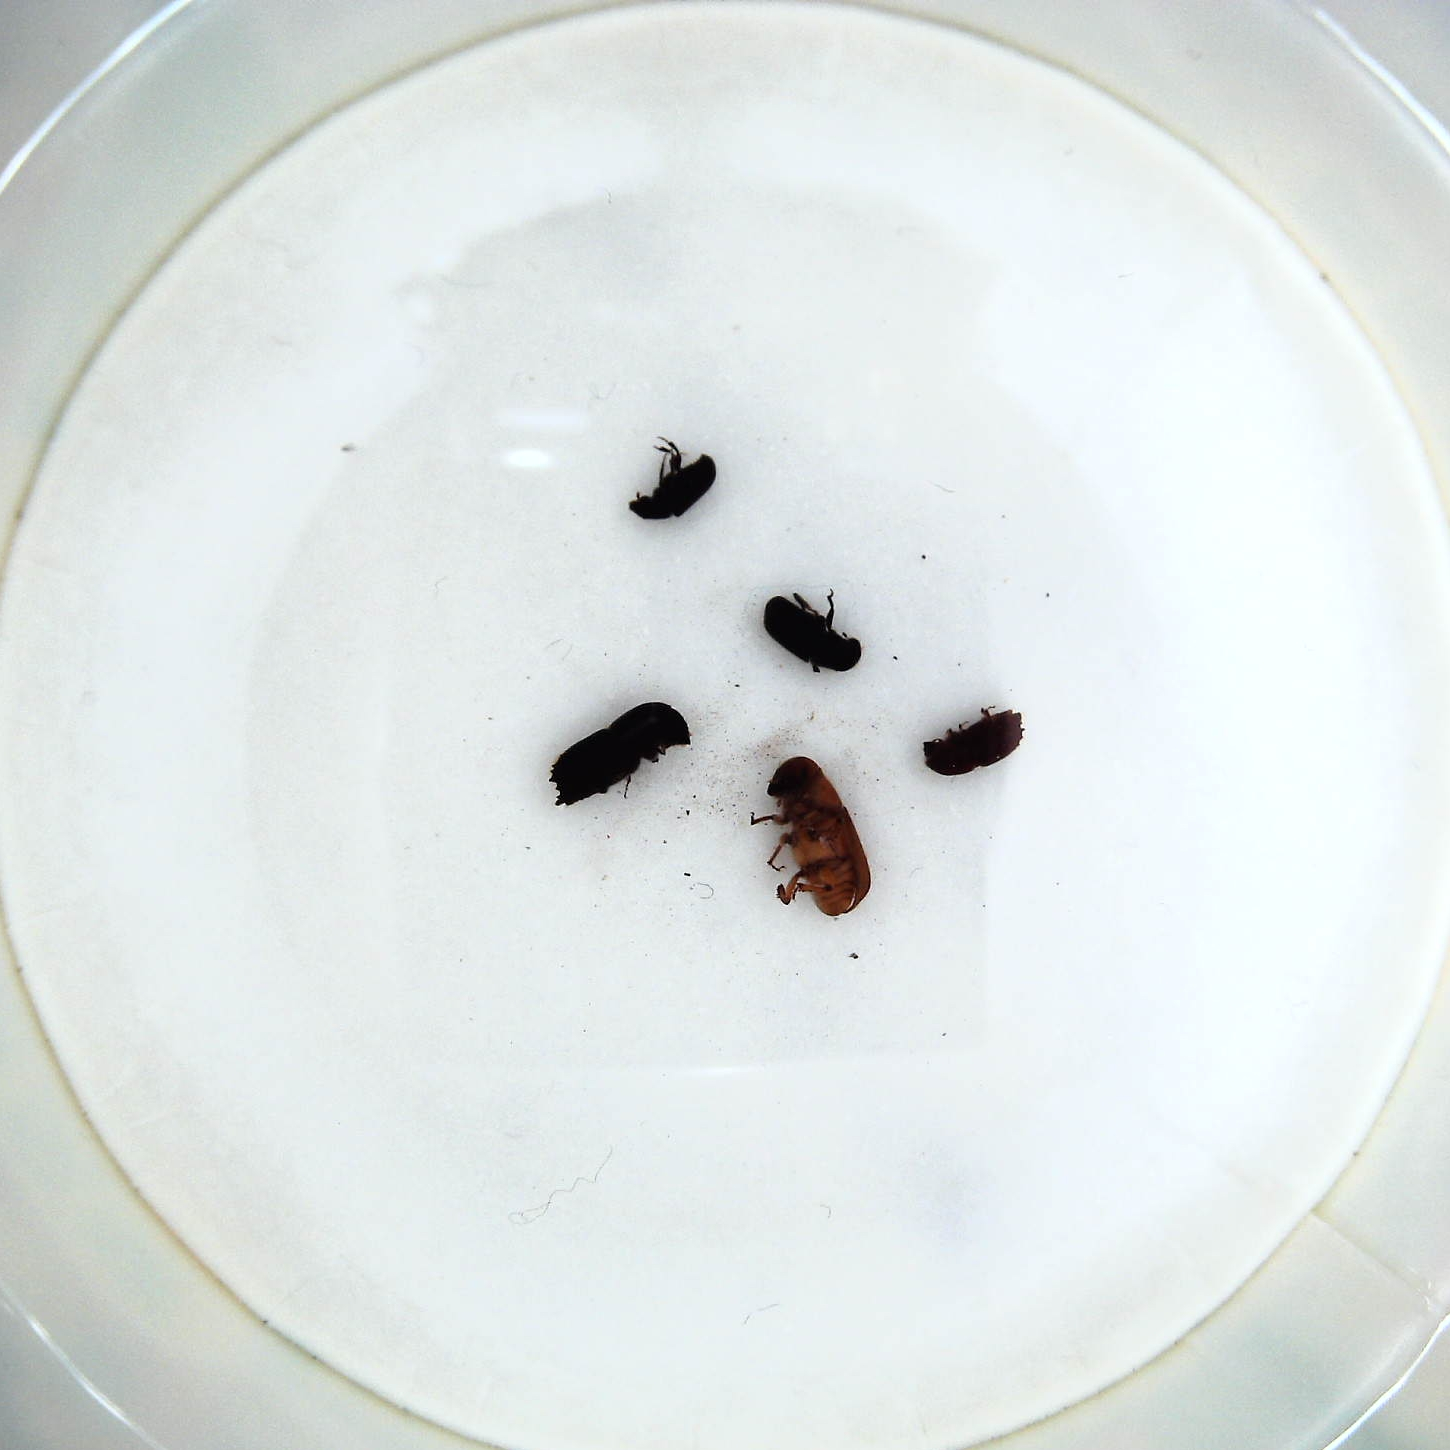Boerner: (542, 694, 714, 817)
Leconte: (748, 748, 880, 926)
armandi: (757, 580, 867, 683)
coleoptera: (623, 429, 725, 528)
linnaeus: (918, 702, 1028, 785)
